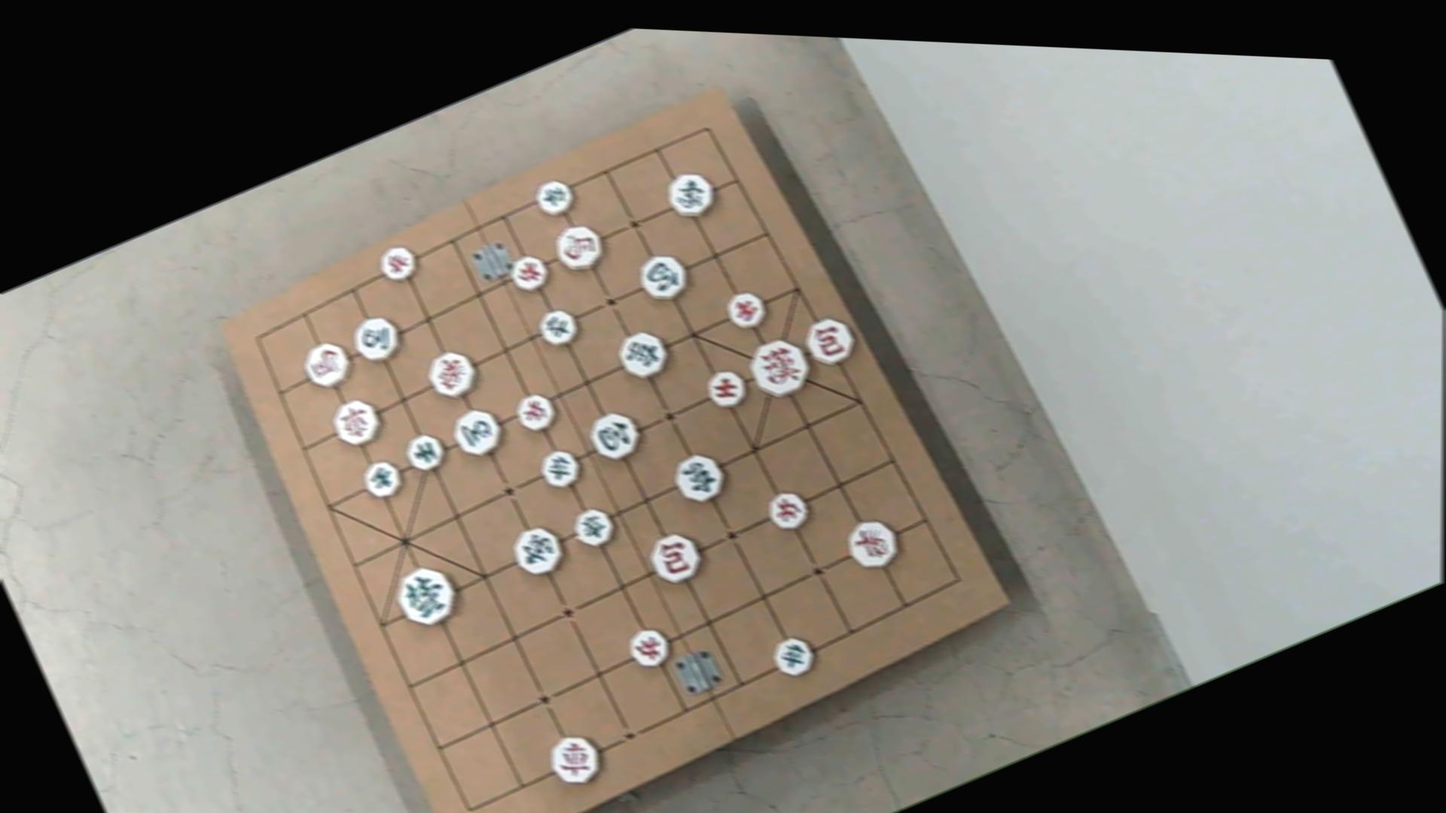cha_green: (669, 446, 730, 509), (616, 325, 678, 386)
cha_red: (547, 728, 610, 793), (328, 394, 387, 454)
jol_green: (570, 501, 621, 553), (535, 443, 586, 494), (770, 631, 820, 681), (538, 304, 584, 351), (532, 175, 578, 222)
jol_red: (767, 485, 817, 536), (625, 622, 674, 672), (514, 388, 562, 437), (508, 248, 556, 295), (375, 241, 421, 288)
ma_green: (450, 404, 508, 464), (351, 310, 408, 368)
ma_red: (549, 221, 609, 279), (301, 335, 358, 394)
po_green: (587, 403, 648, 465), (633, 248, 692, 309)
po_red: (646, 526, 710, 590), (801, 309, 862, 370)
sa_green: (401, 428, 450, 476), (359, 457, 407, 504)
sa_red: (702, 365, 751, 414), (722, 284, 770, 332)
sang_green: (507, 519, 569, 582), (663, 166, 721, 224)
sang_red: (840, 514, 903, 578), (423, 345, 482, 405)
wang_green: (390, 558, 464, 635)
wang_red: (745, 328, 819, 403)
